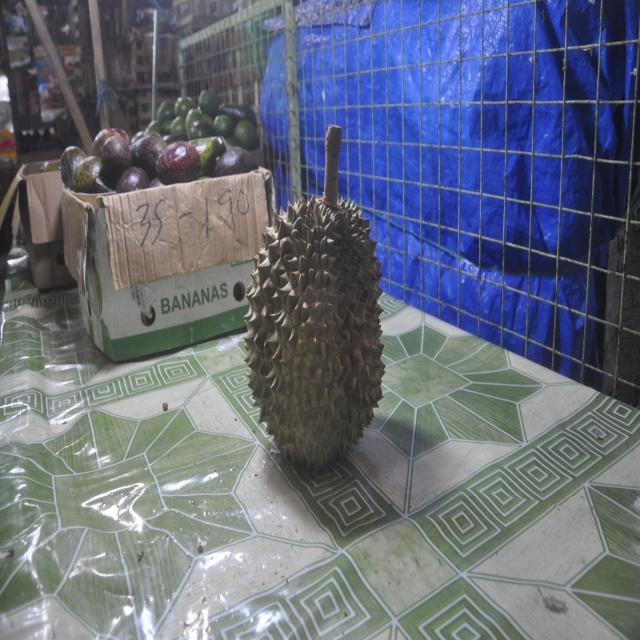mature: (245, 125, 384, 472)
